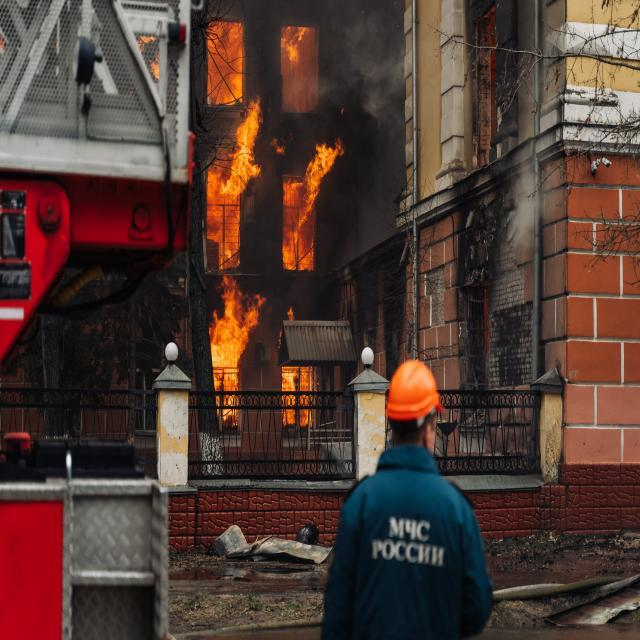Fire: (206, 96, 266, 270), (211, 273, 266, 419), (284, 140, 343, 270), (208, 20, 242, 104), (282, 366, 314, 426), (280, 26, 310, 64)
Smoke: (318, 1, 418, 212)
